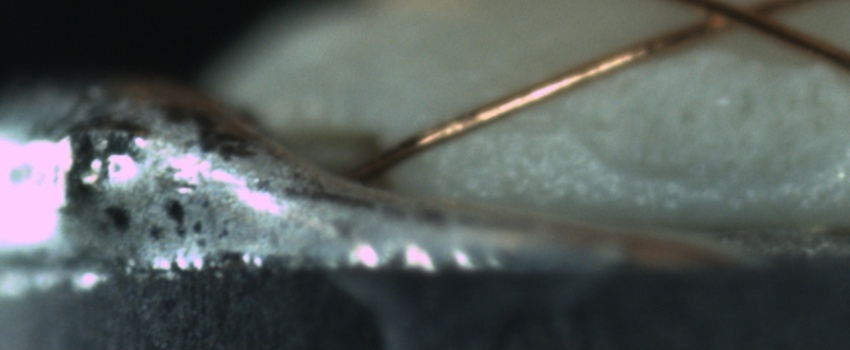CL: (680, 0, 794, 38)
